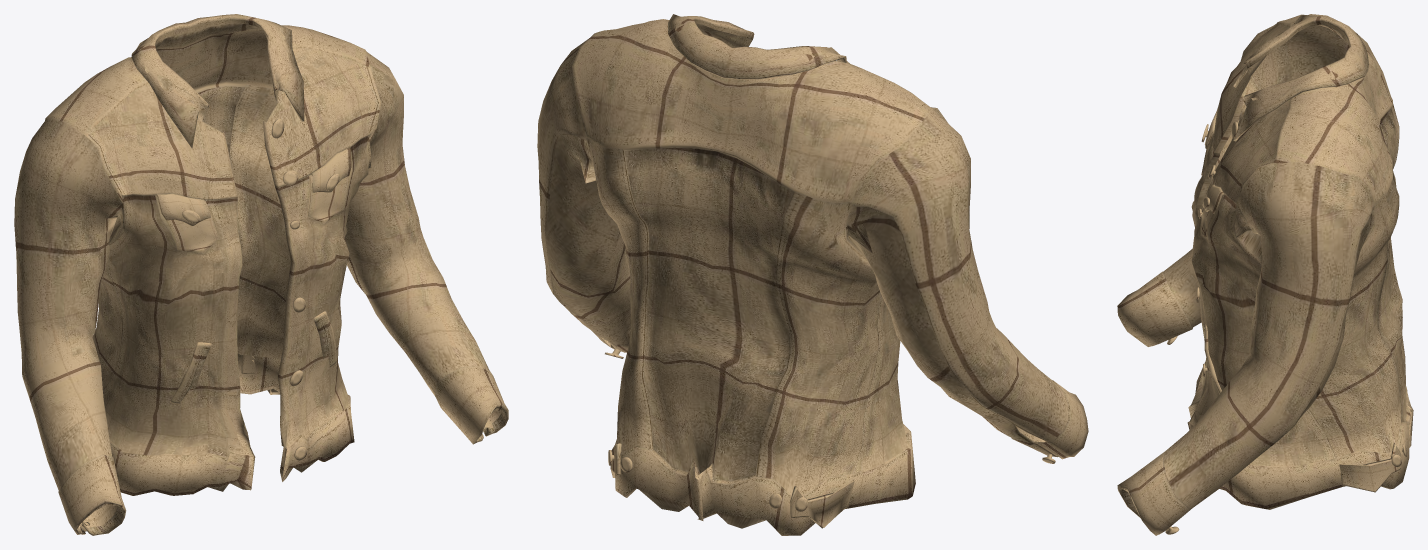
The model's file is blazer-tan-check.glb.
3 views of the same model, side by side, from view 1: azimuth 30°, elevation 25°; view 2: azimuth 150°, elevation 25°; view 3: azimuth 270°, elevation 25° (orthographic). The views are drawn at different scales.
Visible parts, largest first — view 1: jacket-denim; view 2: jacket-denim; view 3: jacket-denim.
Boxes of the visible parts, <box> form: jacket-denim: <box>14,14,508,535</box>; jacket-denim: <box>537,14,1088,535</box>; jacket-denim: <box>1117,14,1413,535</box>.
Bounding box in the file's own units: 0.6995 × 0.6324 × 0.414.
1 material, 1 textured.
